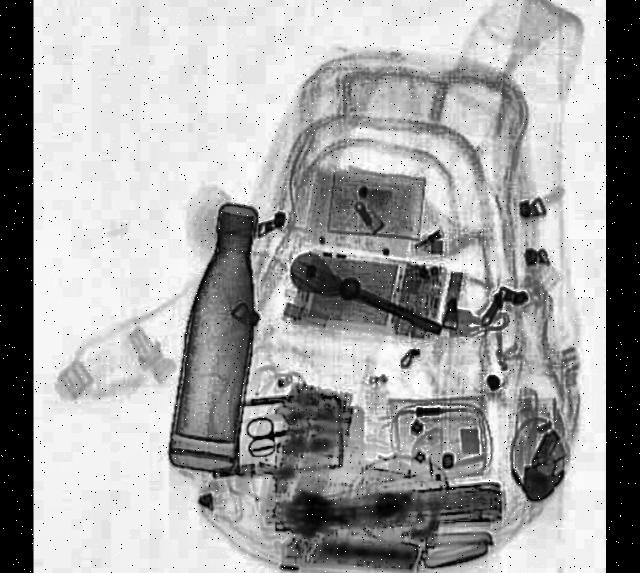Scissors: (244, 404, 316, 457)
